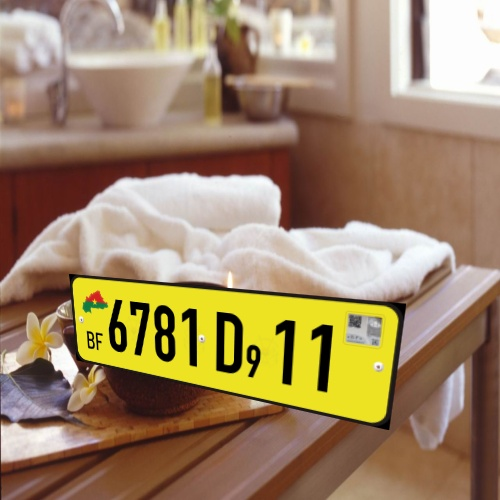plate: (53, 257, 421, 438)
